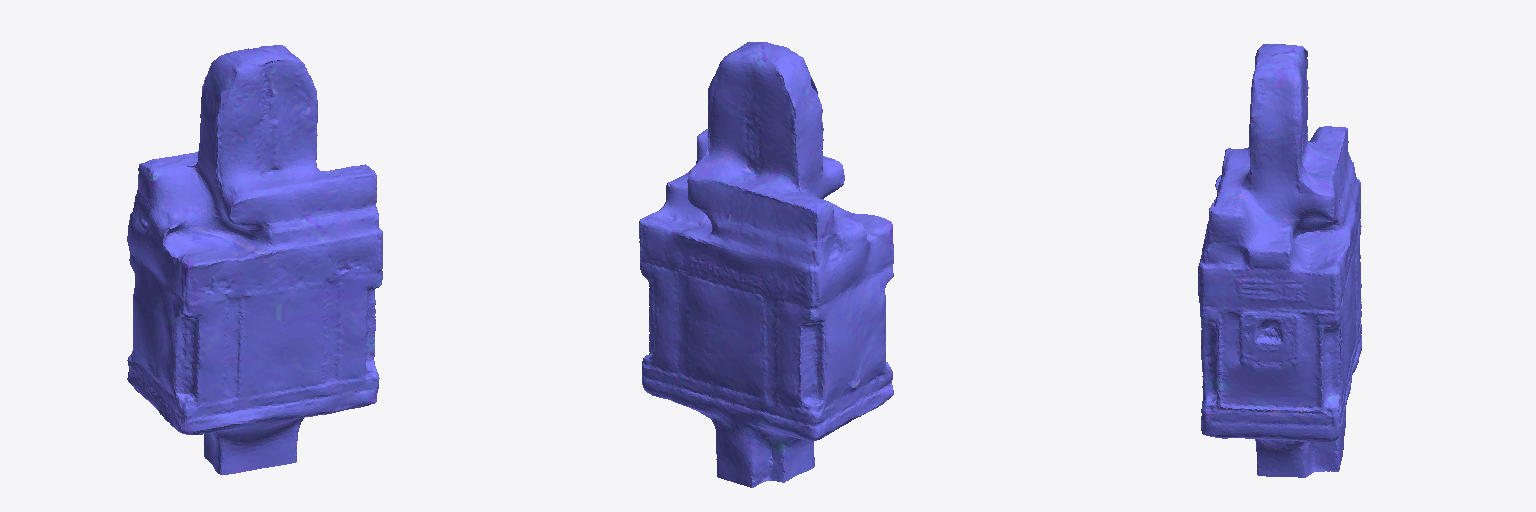
3 renders of one model, left to right at view 1: azimuth 30°, elevation 25°; view 2: azimuth 150°, elevation 25°; view 3: azimuth 270°, elevation 25°, orthographic.
Visible parts, largest first — view 1: Object; view 2: Object; view 3: Object.
Boxes of the visible parts, <box> form: Object: <box>127,45,382,474</box>; Object: <box>639,42,893,487</box>; Object: <box>1198,44,1361,477</box>.
Bounding box in the file's own units: 0.1089 × 0.2101 × 0.0764.
1 materials, 1 textured.